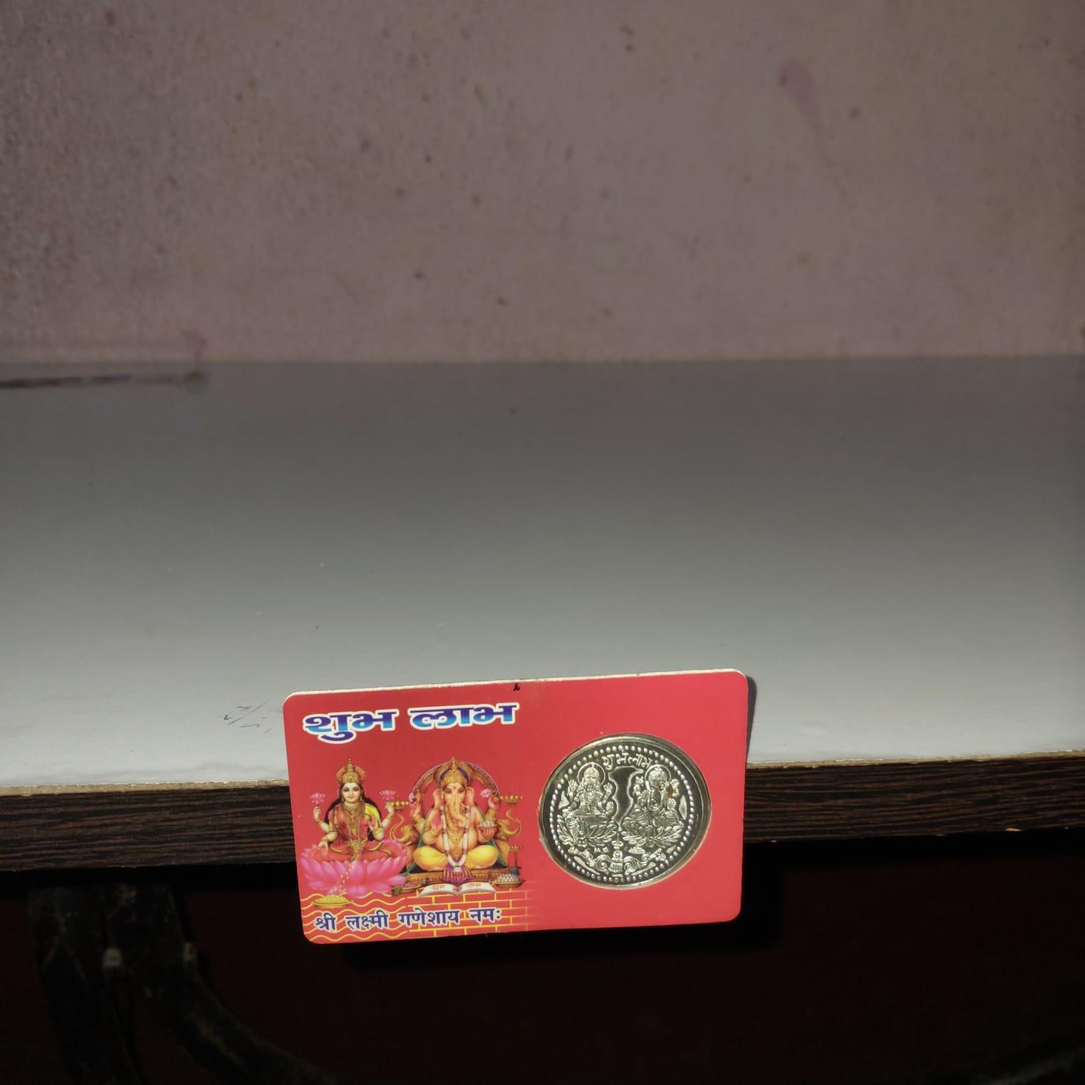blessing_card: (283, 660, 753, 954)
